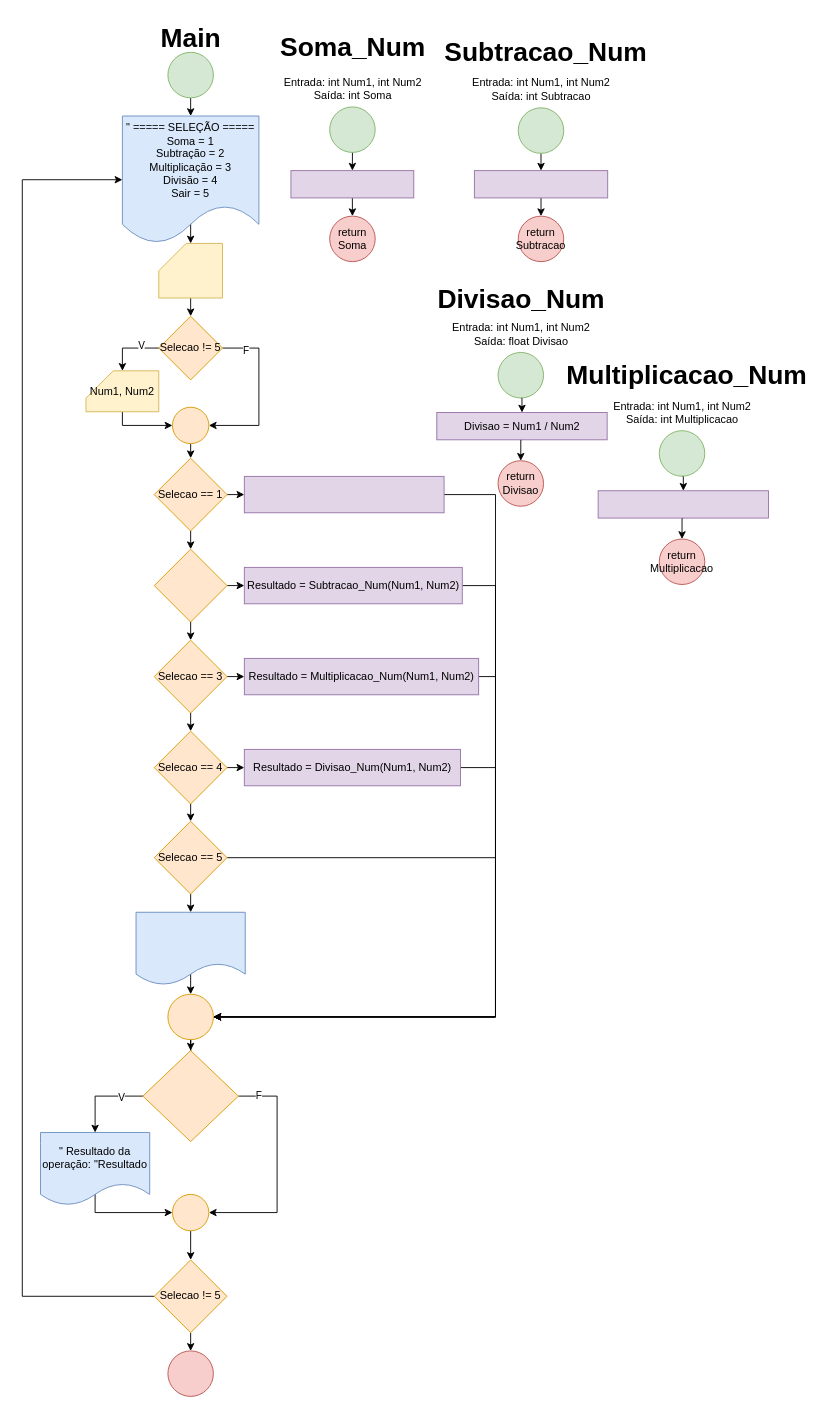
Some shapes in this 825 by 1412 pixel diagram are drawn without their labels. Here are the shapes that lost their labels. From the top down, the centre of each, then its label:
the point at 352,184: Soma = Num1 + Num2
the point at 540,184: Subtracao = Num1 - Num2
the point at 190,270: Selecao
the point at 343,494: Resultado = Soma_Num(Num1, Num2)
the point at 682,504: Multiplicacao = Num1 * Num2
the point at 190,585: Selecao == 2
the point at 190,948: " Seleção inválida"
the point at 190,1096: Selecao >= 1 && Selecao <=4
